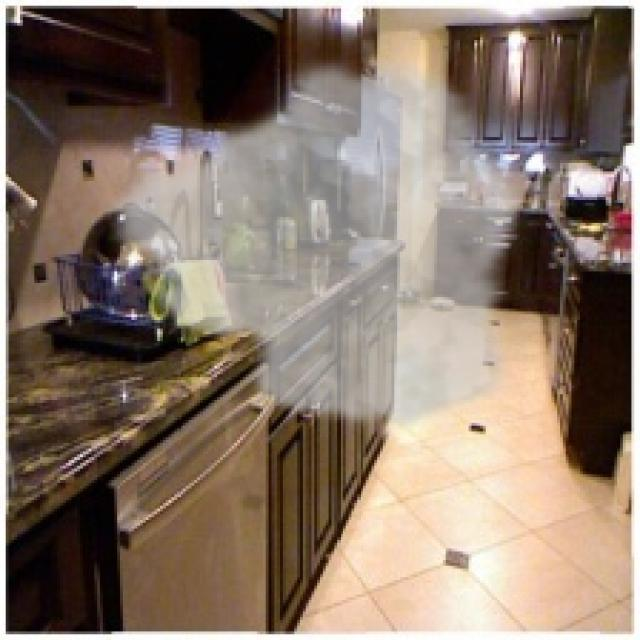Smoke: (103, 48, 526, 434)
